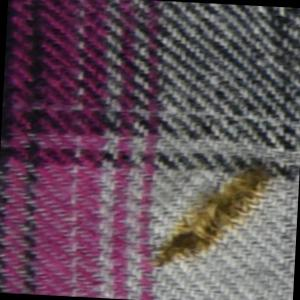Damage: (155, 163, 269, 272)
Oil Stain: (139, 151, 283, 280)
